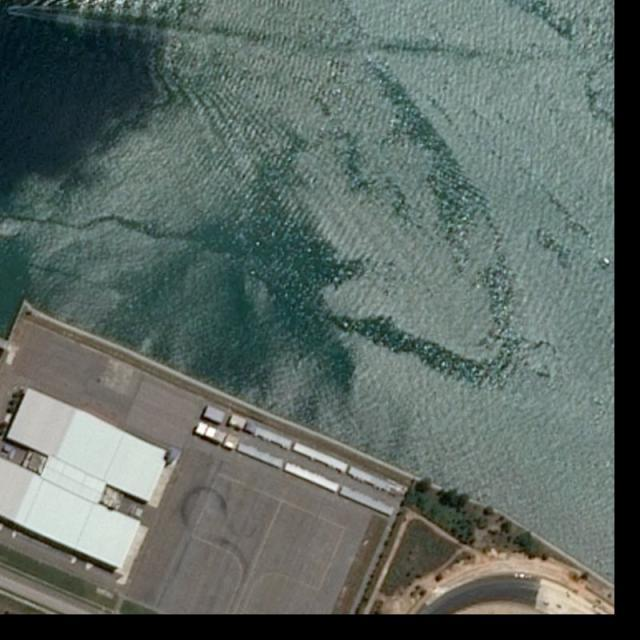ship: (602, 256, 613, 267), (6, 8, 17, 15)
